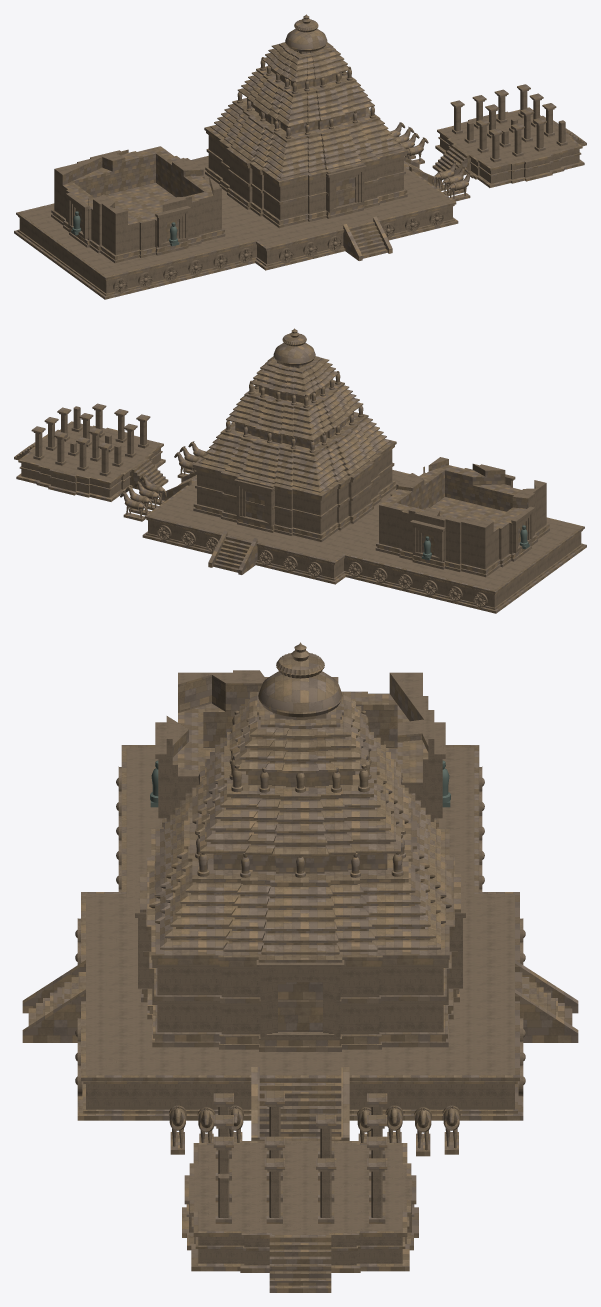
File: konark.glb
3 views of the same model, one above another, from view 1: azimuth 30°, elevation 25°; view 2: azimuth 150°, elevation 25°; view 3: azimuth 270°, elevation 25° (orthographic). The views are drawn at different scales.
Parts seen in each view (by area): view 1: konark_khondalite_carved, konark_khondalite, konark_khondalite_weathered; view 2: konark_khondalite_carved, konark_khondalite, konark_khondalite_weathered; view 3: konark_khondalite, konark_khondalite_carved, konark_khondalite_weathered.
Part boxes in pixels (x1=…): konark_khondalite_carved: x1=19, y1=91, x2=579, y2=293; konark_khondalite: x1=14, y1=14, x2=586, y2=299; konark_khondalite_weathered: x1=75, y1=42, x2=473, y2=241; konark_khondalite_carved: x1=21, y1=406, x2=581, y2=607; konark_khondalite: x1=14, y1=328, x2=586, y2=613; konark_khondalite_weathered: x1=120, y1=356, x2=525, y2=555; konark_khondalite: x1=22, y1=642, x2=578, y2=1292; konark_khondalite_carved: x1=75, y1=670, x2=525, y2=1265; konark_khondalite_weathered: x1=160, y1=700, x2=460, y2=1156.
Bounding box in the file's own units: 118 × 41.5 × 54.4.
4 materials, 3 textured.
